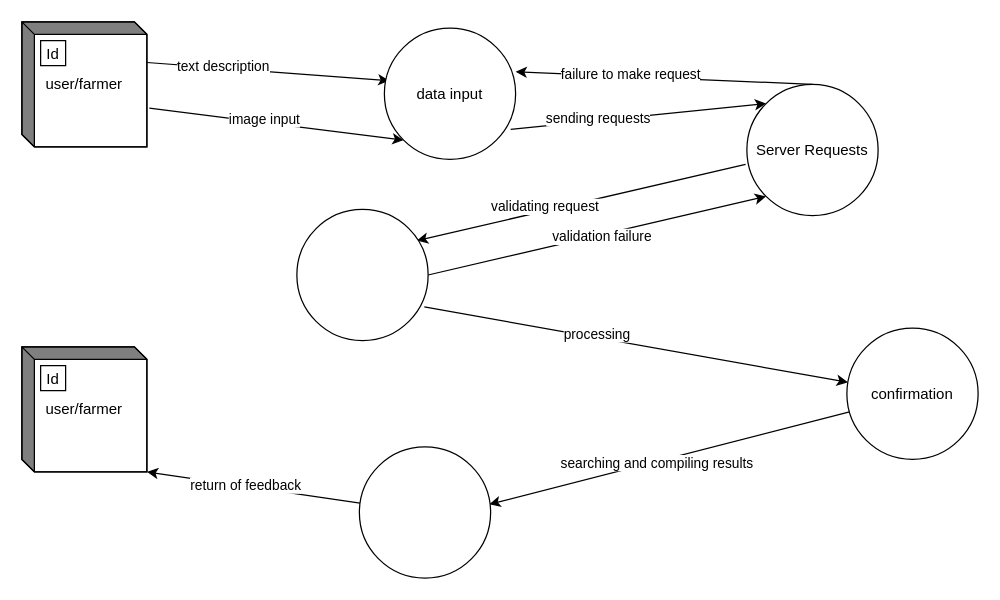
Some shapes in this 1000 by 600 pixel diagram are drawn without their labels. The centre of each missing label's shape, as x and y in pixels:
feedback: the point at 424,512
validation: the point at 362,274
